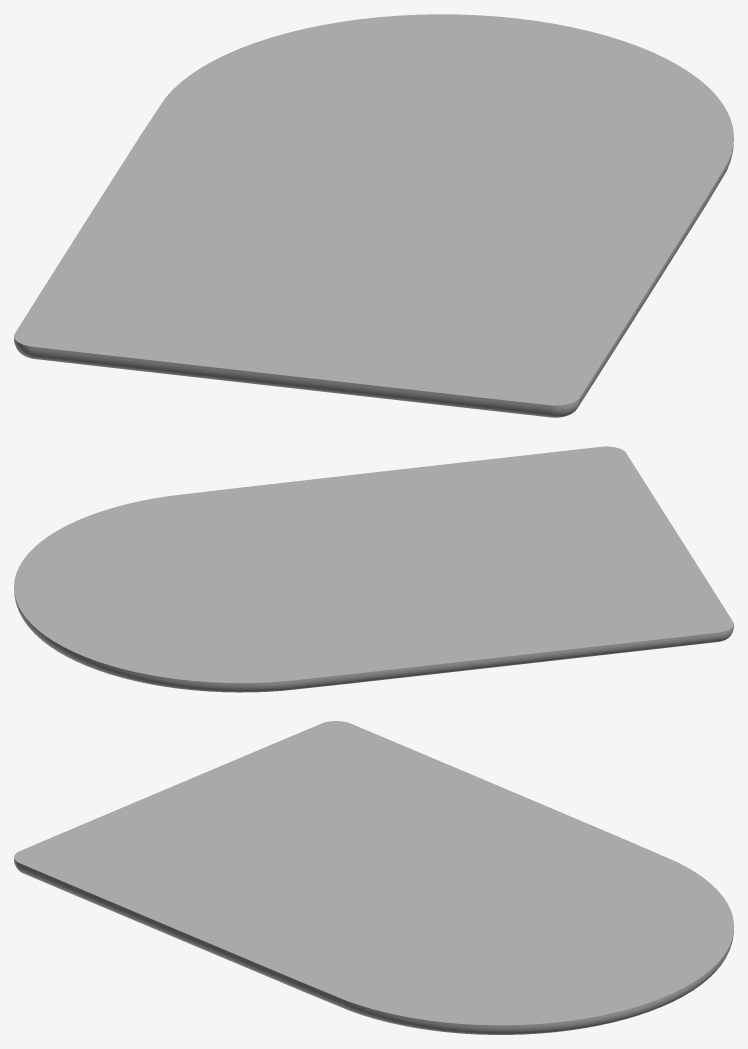
File: diningtable_0201_top.glb
3 renders of one model, top to bottom at view 1: azimuth 30°, elevation 25°; view 2: azimuth 150°, elevation 25°; view 3: azimuth 270°, elevation 25°, orthographic. The views are drawn at different scales.
Parts seen in each view (by area): view 1: diningtable_0201_top; view 2: diningtable_0201_top; view 3: diningtable_0201_top.
Boxes of the visible parts, box(x1,y1,x2,y2) form: diningtable_0201_top: box(14, 14, 733, 417); diningtable_0201_top: box(14, 446, 733, 692); diningtable_0201_top: box(14, 721, 733, 1034).
Size of the model in its own units: 1.23 by 0.0242 by 1.23.
1 material, 1 textured.
